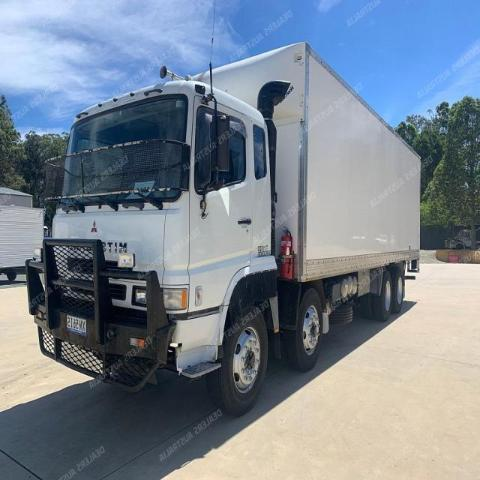truck: (24, 38, 420, 416)
